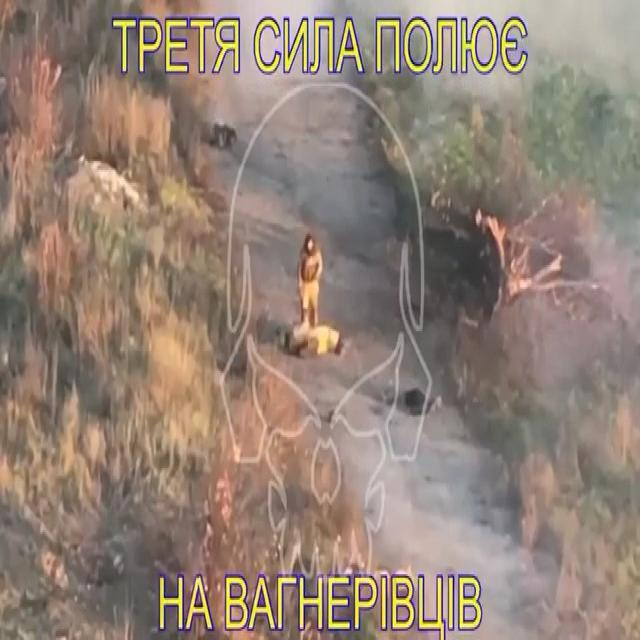MIL_Pax: (298, 233, 322, 326), (285, 322, 340, 354)
